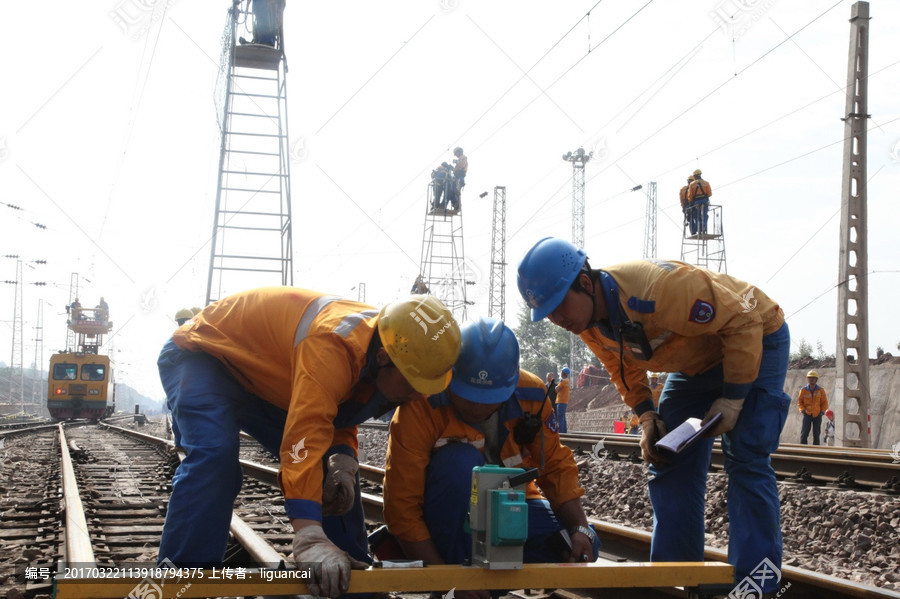safetyhat: (137, 251, 471, 482), (505, 234, 821, 380), (436, 310, 585, 501)
